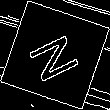N_NE: (23, 26, 87, 84)
